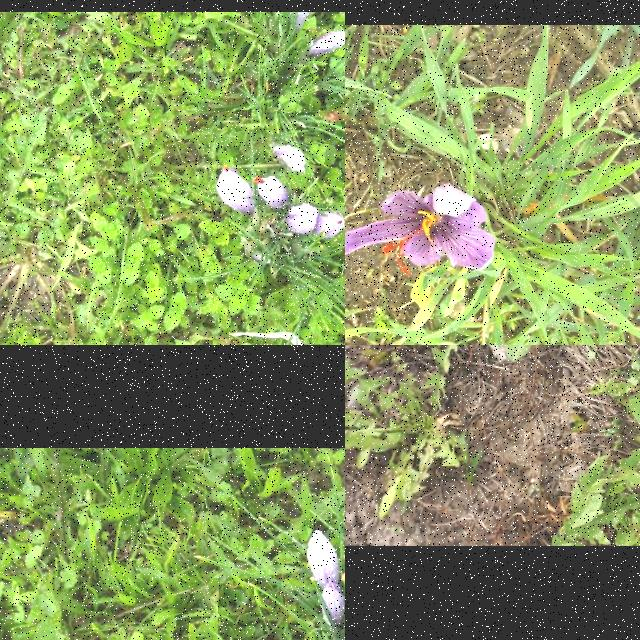flower: (345, 185, 494, 275), (307, 530, 341, 592), (217, 166, 257, 218), (254, 177, 292, 210), (287, 203, 319, 239), (320, 581, 345, 626), (309, 30, 345, 56), (273, 146, 307, 172), (316, 212, 344, 240)
